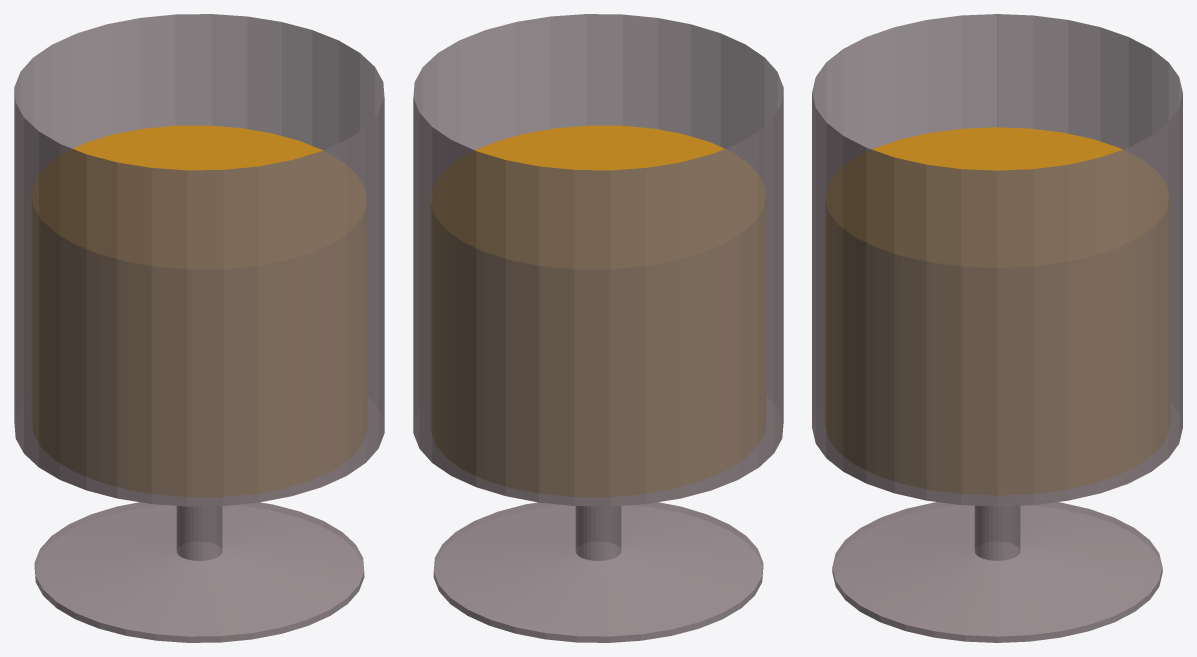
Rendered from basoZumo.glb.
3 renders of one model, left to right at view 1: azimuth 30°, elevation 25°; view 2: azimuth 150°, elevation 25°; view 3: azimuth 270°, elevation 25°, orthographic.
Visible parts, largest first — view 1: Cylinder, Cylinder.001; view 2: Cylinder, Cylinder.001; view 3: Cylinder, Cylinder.001.
Part boxes in pixels (box(x1,y1,x2,y2)): Cylinder: box(14, 14, 384, 642); Cylinder.001: box(32, 125, 366, 496); Cylinder: box(413, 14, 783, 642); Cylinder.001: box(431, 125, 765, 496); Cylinder: box(812, 14, 1182, 642); Cylinder.001: box(825, 127, 1169, 494).
Bounding box in the file's own units: 2 × 2.86 × 2.
